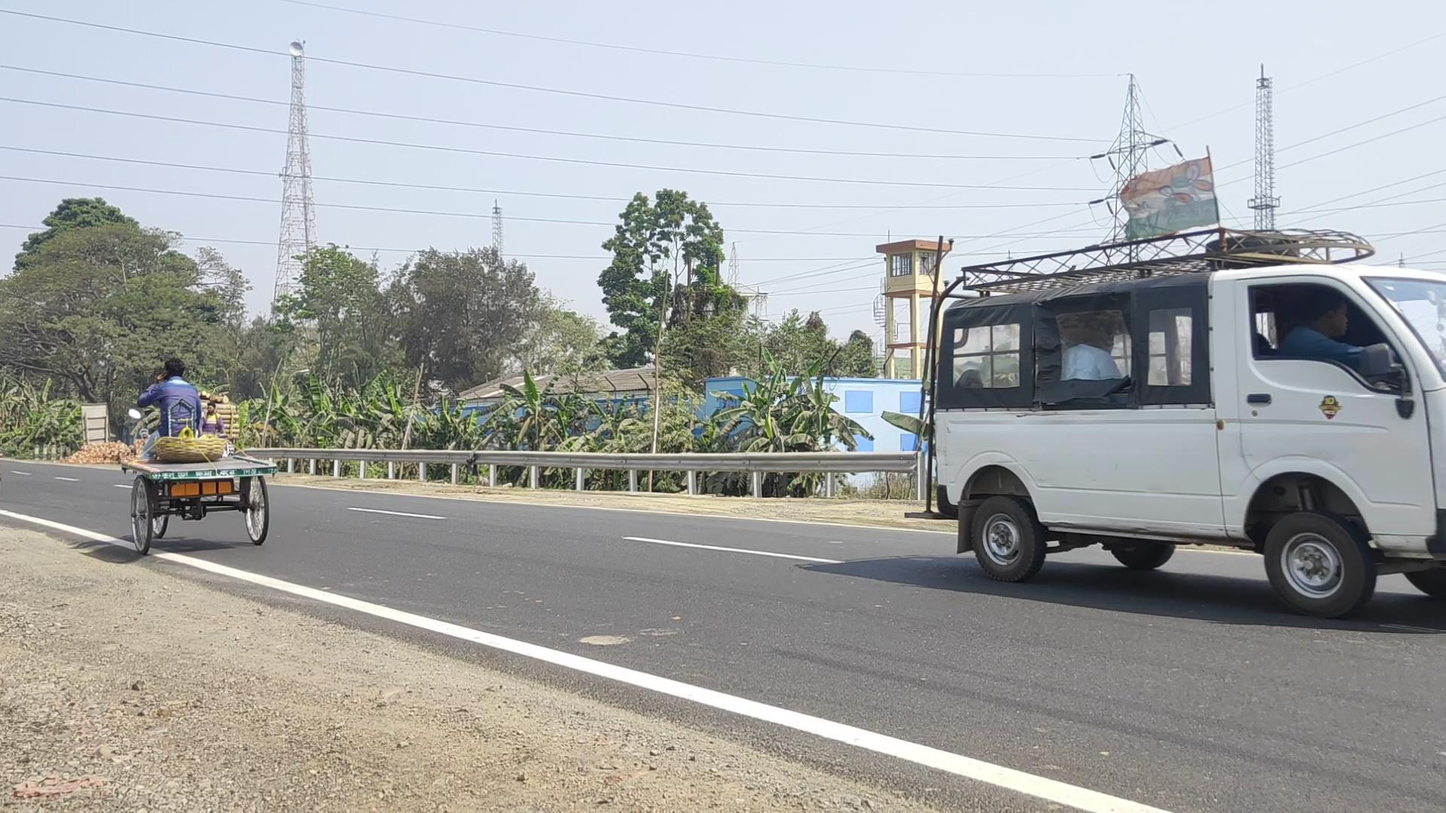van: (904, 228, 1446, 620)
